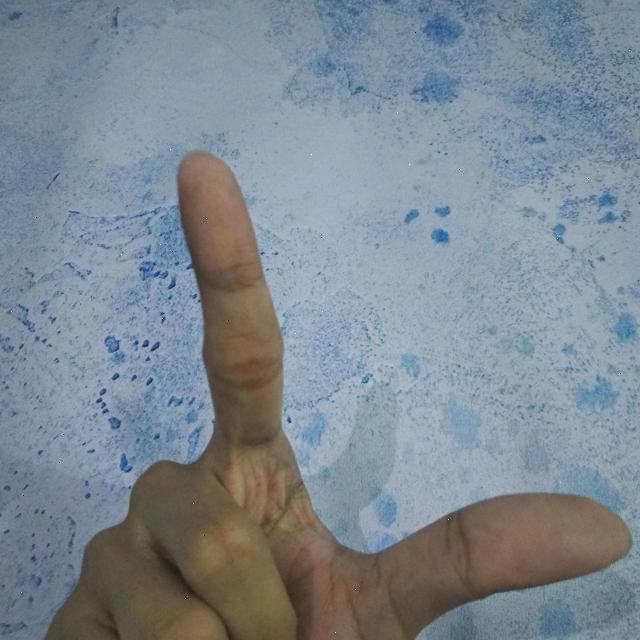L: (51, 142, 640, 640)
